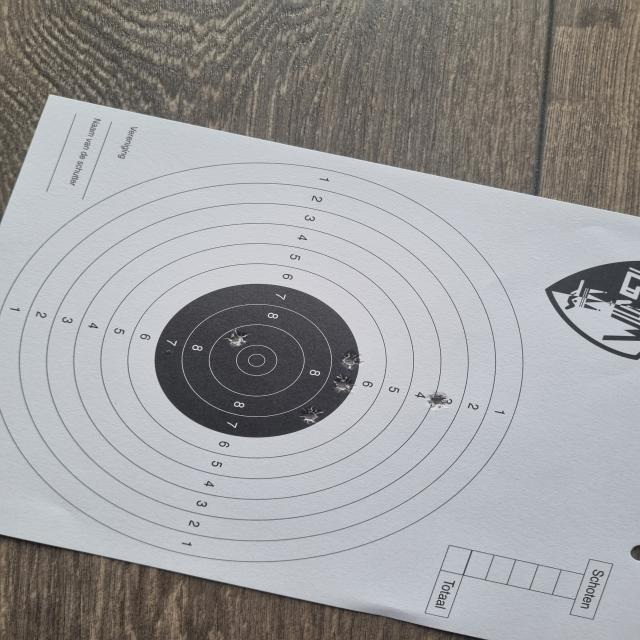10: (224, 328, 248, 346)
5: (426, 390, 448, 410)
8: (338, 349, 362, 371), (298, 407, 322, 424), (331, 375, 353, 393)
Black Contour: (153, 284, 360, 438)
Target: (0, 162, 524, 562)
